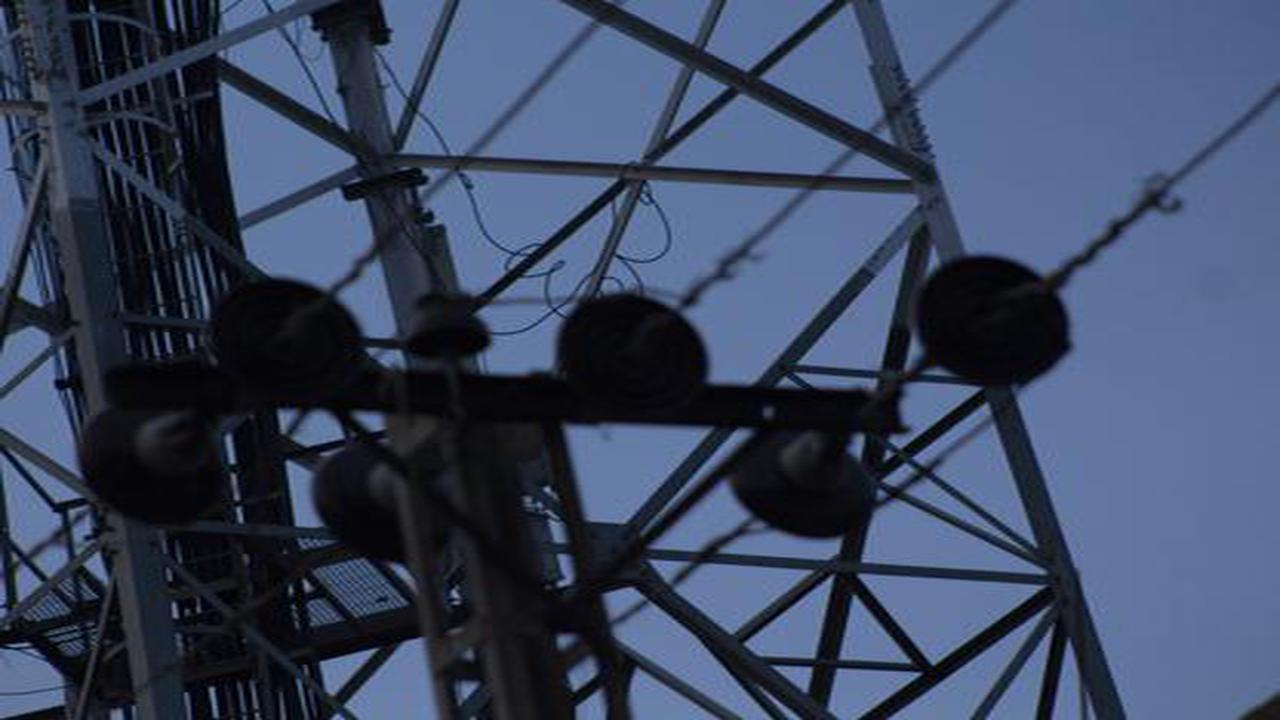insulator_disc: (543, 288, 723, 422), (911, 252, 1079, 388), (207, 275, 373, 409), (727, 420, 889, 543), (305, 444, 459, 567), (73, 409, 230, 525)
insulator_pin: (402, 286, 495, 369)
